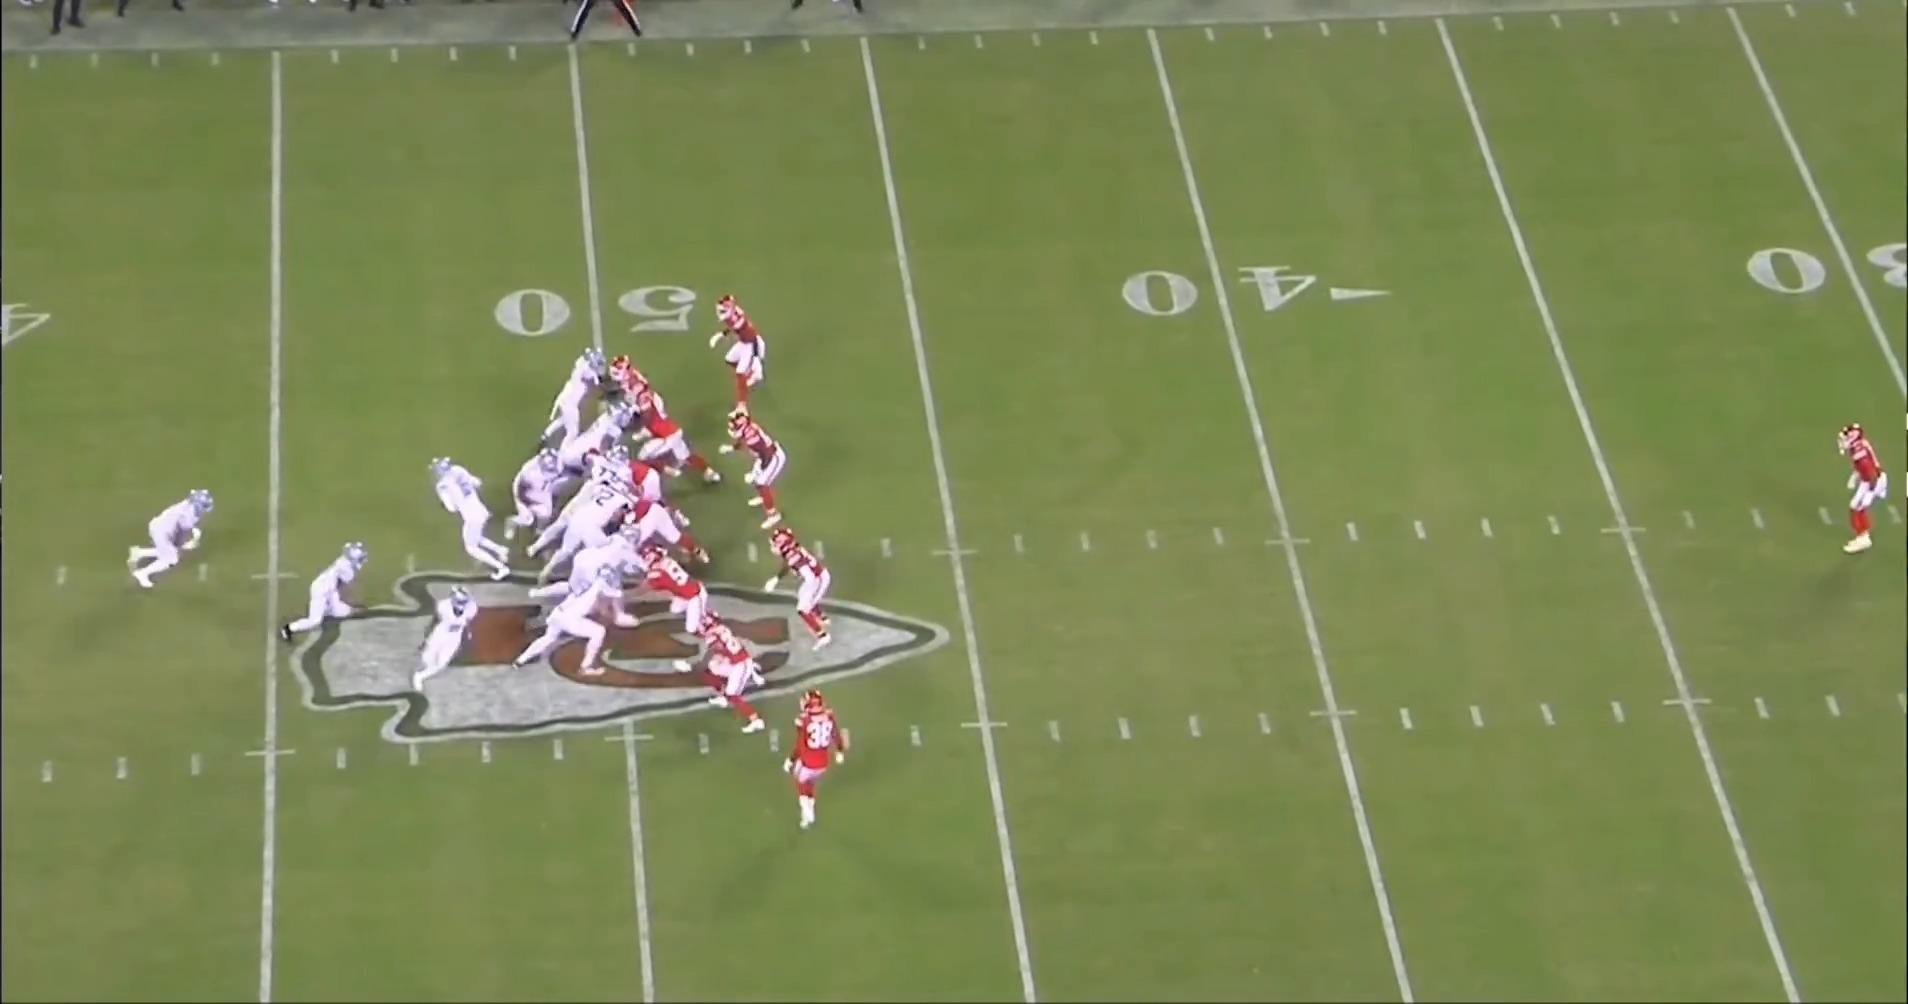player: (511, 554, 624, 681), (421, 450, 513, 587), (528, 444, 630, 556), (785, 691, 859, 843), (270, 537, 367, 649), (122, 489, 217, 597), (696, 607, 774, 735), (617, 390, 717, 489), (551, 521, 643, 626), (636, 541, 724, 650), (536, 480, 627, 583), (398, 578, 481, 690), (759, 531, 835, 652), (628, 465, 714, 571), (536, 340, 615, 453), (1824, 422, 1885, 561), (726, 412, 798, 529), (622, 441, 693, 550), (714, 294, 772, 423), (501, 445, 568, 539), (558, 405, 633, 470), (613, 355, 666, 407)
ref: (565, 0, 655, 40)
